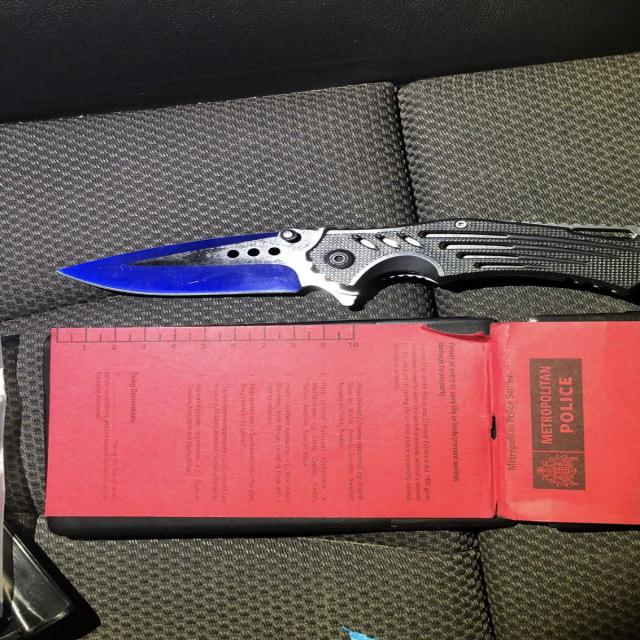Sharp-Object: (53, 217, 640, 310)
